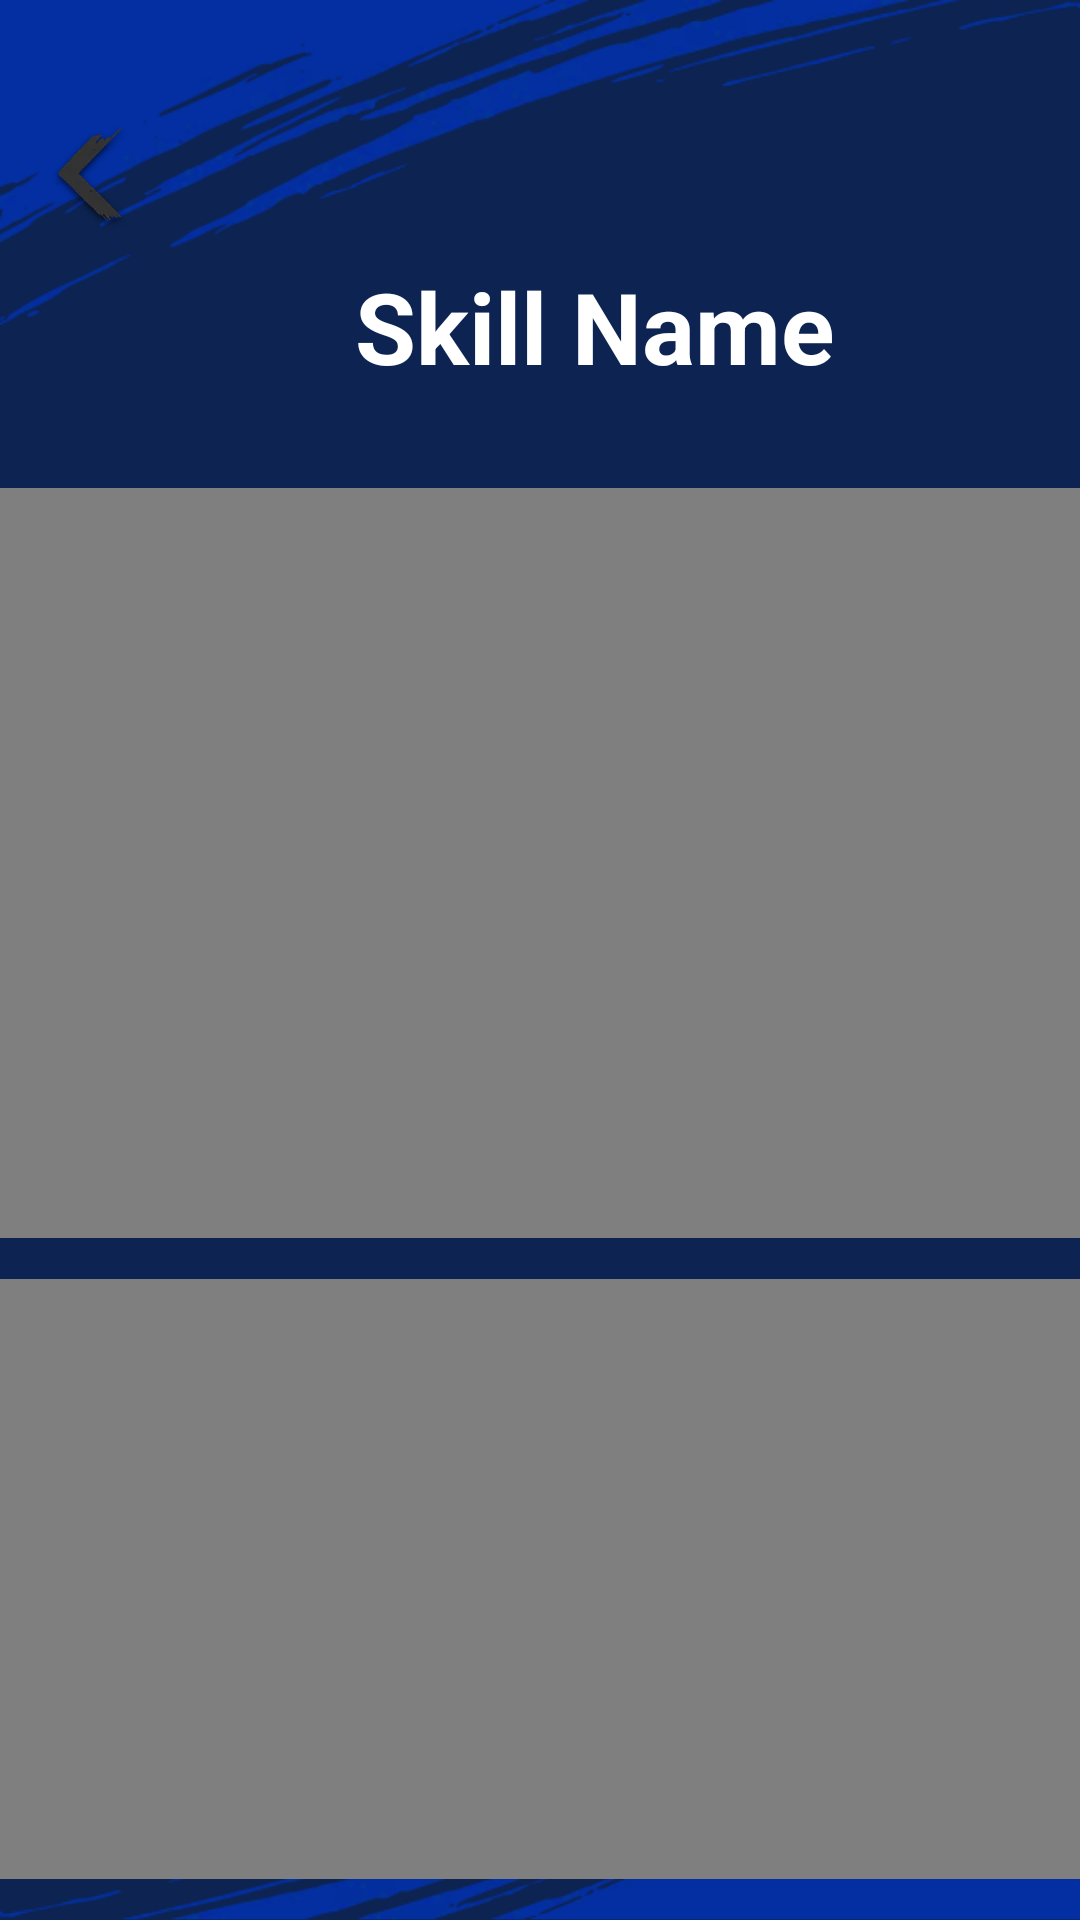

Point at icon controls on the screen. Image size 1080 × 1920, points as [x,y].
back arrow: [90,178]
